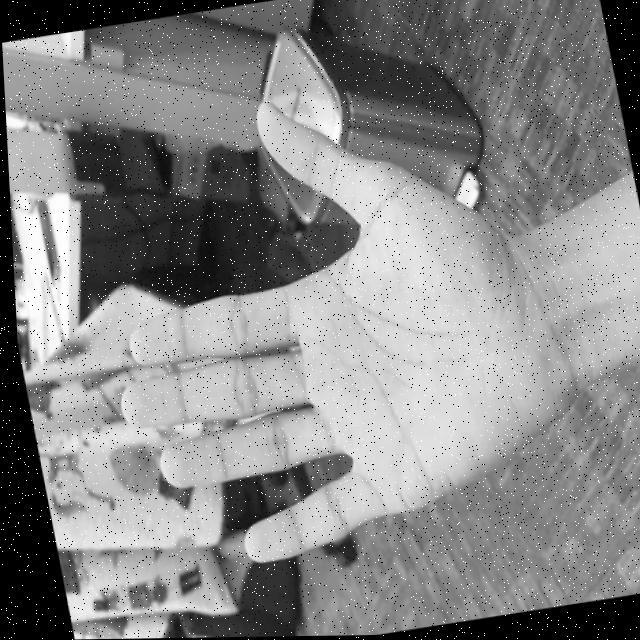no-gloves: (61, 56, 622, 582)
